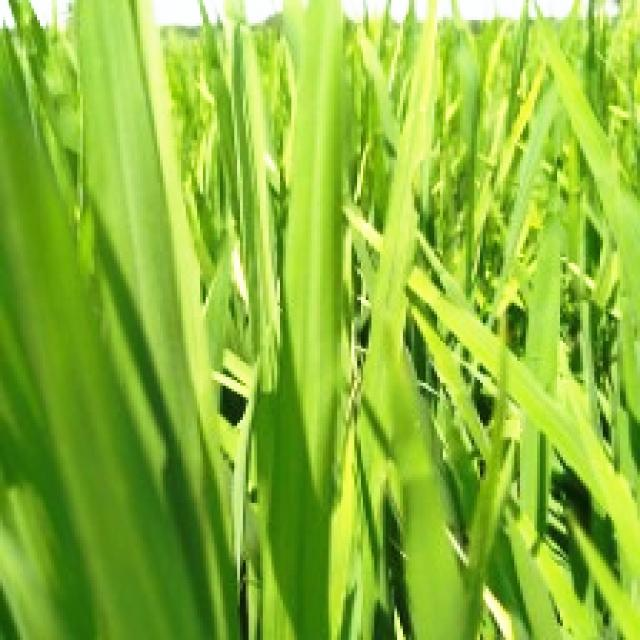health: (64, 0, 464, 640)
